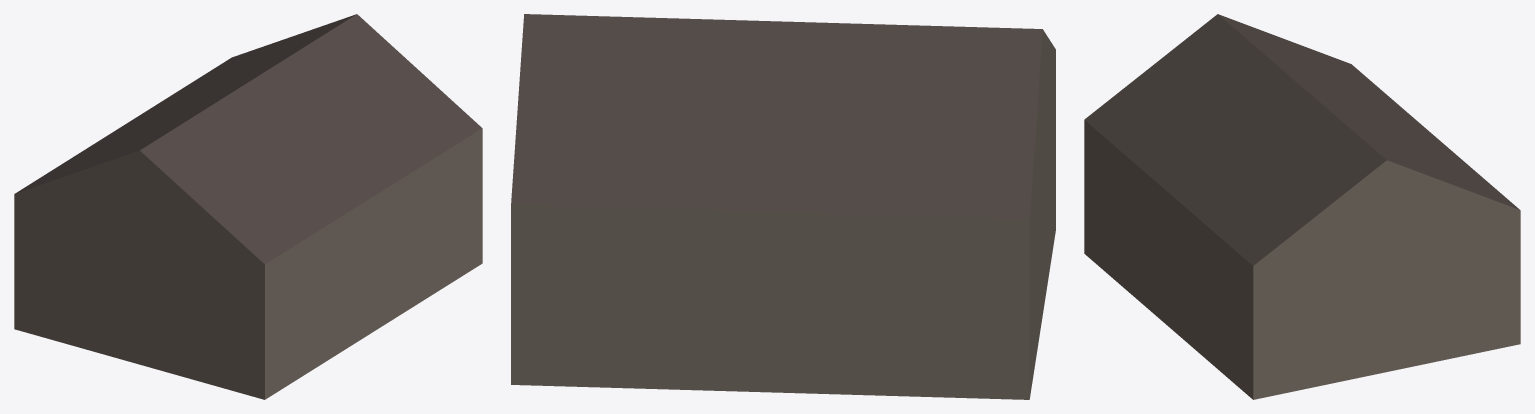
3 views of the same model, side by side, from view 1: azimuth 30°, elevation 25°; view 2: azimuth 150°, elevation 25°; view 3: azimuth 270°, elevation 25° (orthographic). The views are drawn at different scales.
Parts seen in each view (by area): view 1: HP-w859088453; view 2: HP-w859088453; view 3: HP-w859088453.
Part boxes in pixels (left/top/right/bottom): HP-w859088453: left=14, top=14, right=482, bottom=399; HP-w859088453: left=511, top=14, right=1055, bottom=399; HP-w859088453: left=1084, top=14, right=1520, bottom=399.
Size of the model in its own units: 19.42 by 9.5 by 17.73.
